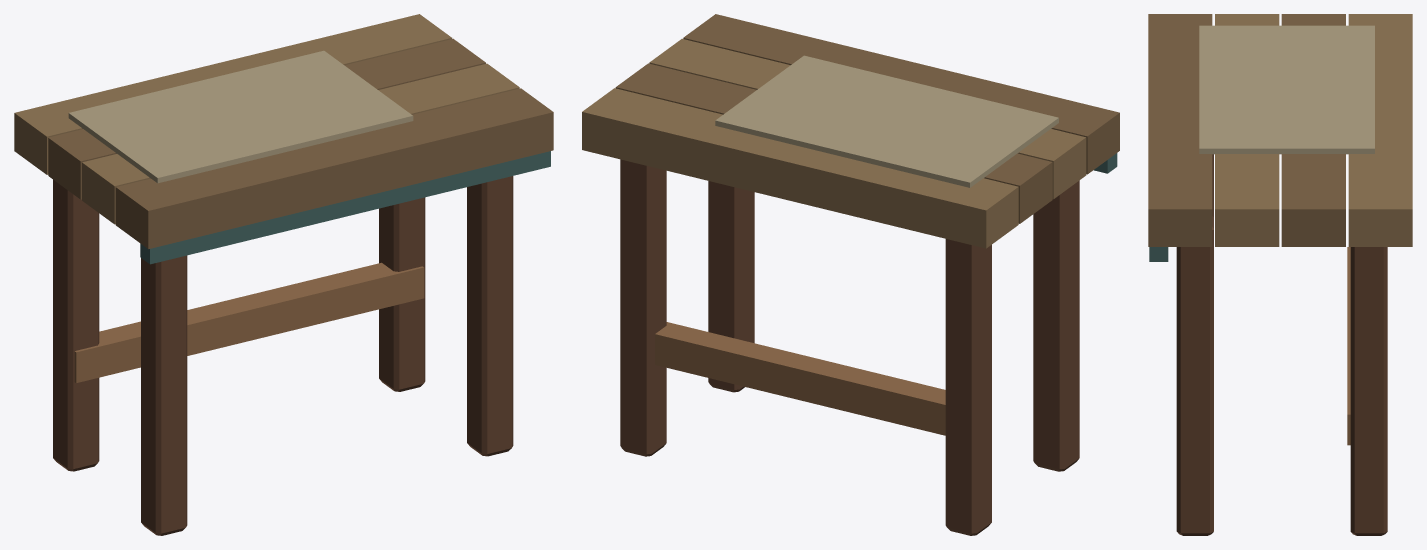
Rendered from bread_board.glb.
3 renders of one model, left to right at view 1: azimuth 30°, elevation 25°; view 2: azimuth 150°, elevation 25°; view 3: azimuth 270°, elevation 25°, orthographic.
Visible parts, largest first — view 1: bread_board; view 2: bread_board; view 3: bread_board.
Part boxes in pixels (box(x1,y1,x2,y2)): bread_board: box(14, 14, 553, 535); bread_board: box(582, 14, 1119, 535); bread_board: box(1148, 14, 1412, 535).
Bounding box in the file's own units: 0.92 × 0.757 × 0.527.
